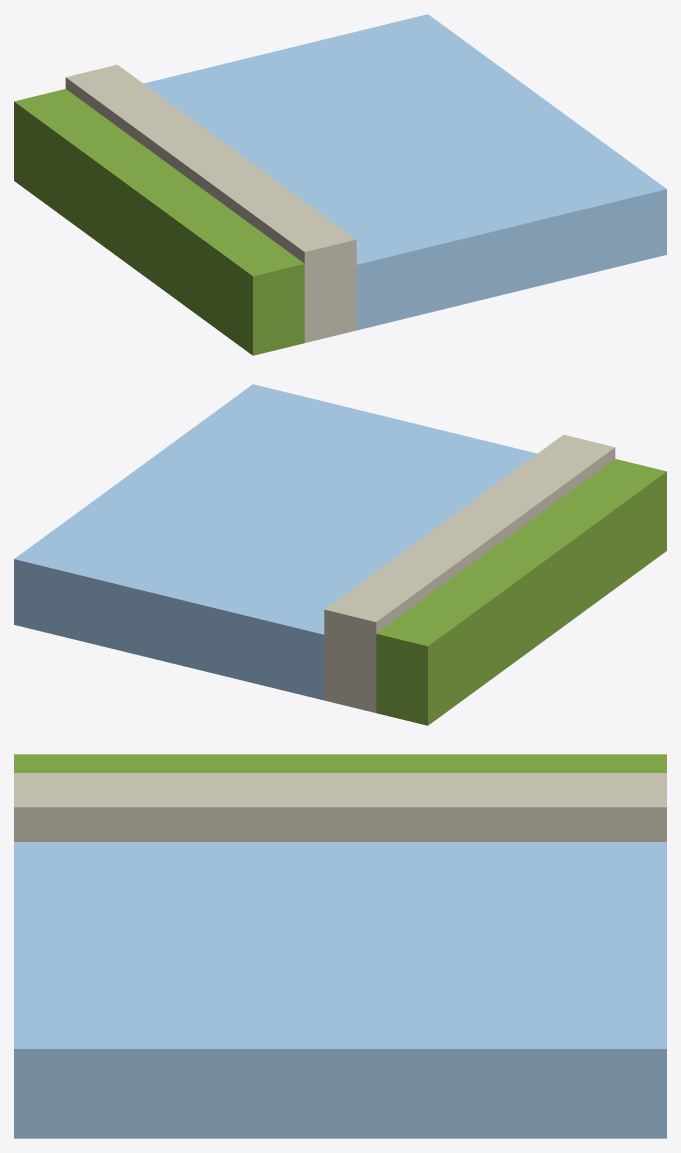
The model's file is roadTile_252.fbx.
The picture shows the model from 3 angles, top to bottom: view 1: azimuth 30°, elevation 25°; view 2: azimuth 150°, elevation 25°; view 3: azimuth 270°, elevation 25°; orthographic projection. The views are drawn at different scales.
Visible parts, largest first — view 1: roadTile_252; view 2: roadTile_252; view 3: roadTile_252.
Boxes of the visible parts, left/top/right/bottom form: roadTile_252: left=14, top=14, right=666, bottom=355; roadTile_252: left=14, top=384, right=666, bottom=725; roadTile_252: left=14, top=754, right=666, bottom=1138.
Bounding box in the file's own units: 118 × 24.8 × 118.
